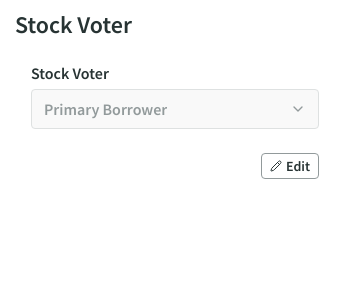
Scenario: defaults to the primary borrower and saves or discards stock voter changes
Later steps or results of the test are not shown.
Expected: the button with test id "select-stock-voter" is disabled, [31,89,319,129]
Expected: the button with test id "select-stock-voter" reads "Primary Borrower", [31,89,319,129]
Click the button "Edit". click: (290, 166)
box: [261,153,319,179]
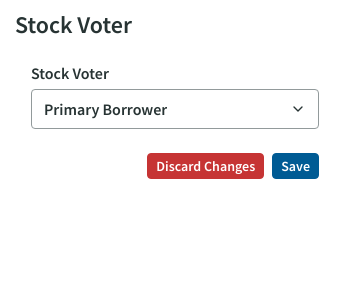
Click the button with test id "select-stock-voter". click: (106, 109)
box: [31,89,319,129]
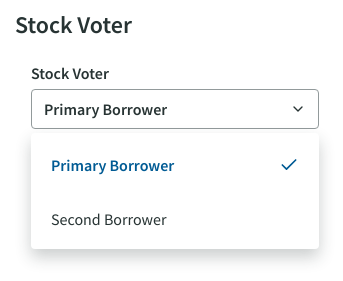
Click the button "Second Borrower". click: (109, 219)
box: [39,197,311,241]
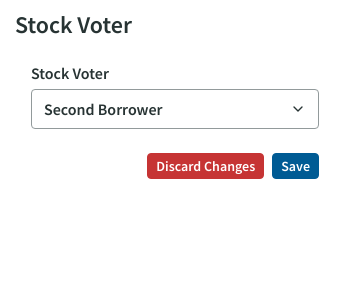
Click the button "Discard Changes". click: (206, 166)
box: [147,153,264,179]
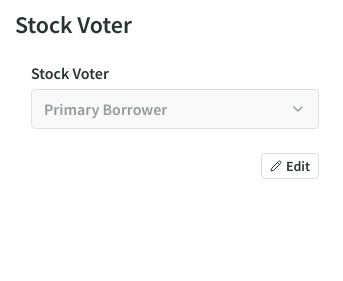
Now the button with test id "select-stock-voter" reads "Primary Borrower", box [31,89,319,129]
